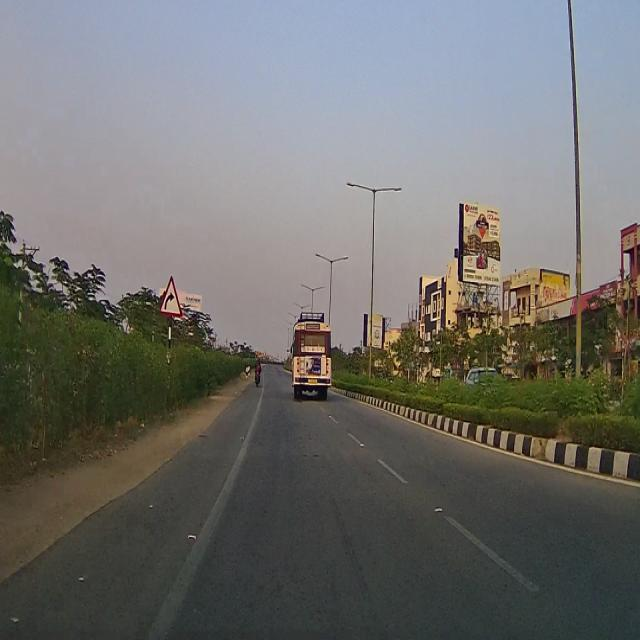right-hand-curve: (160, 272, 179, 312)
